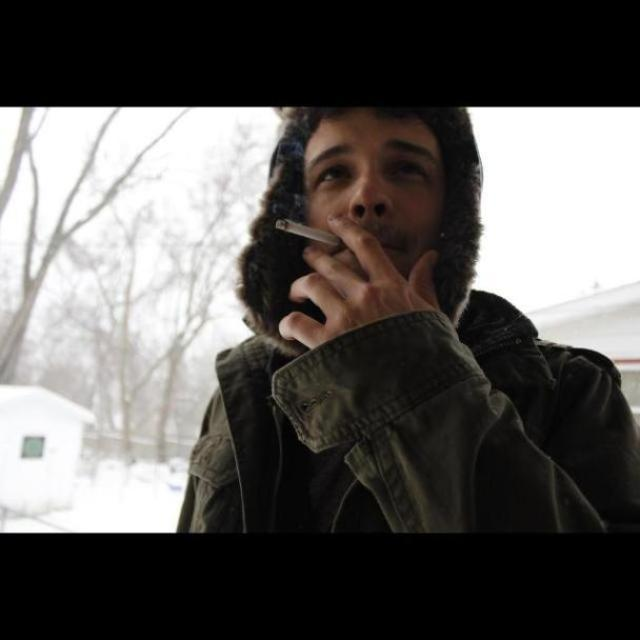rokok: (272, 208, 342, 248)
